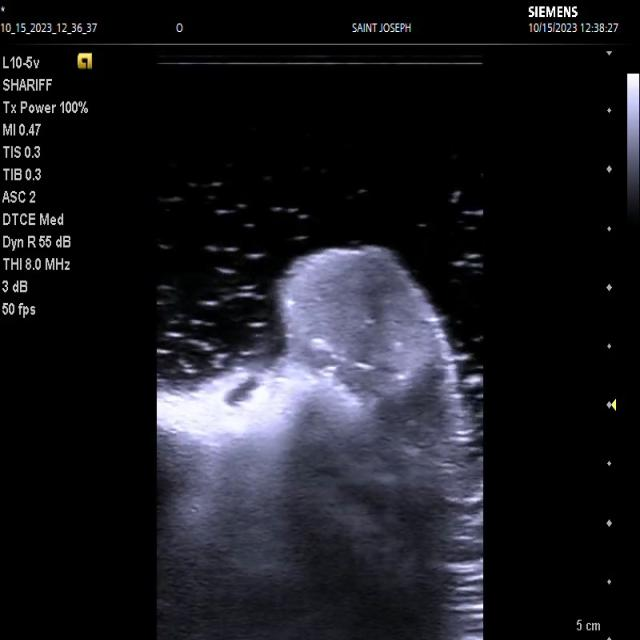tissue: (156, 247, 459, 640)
